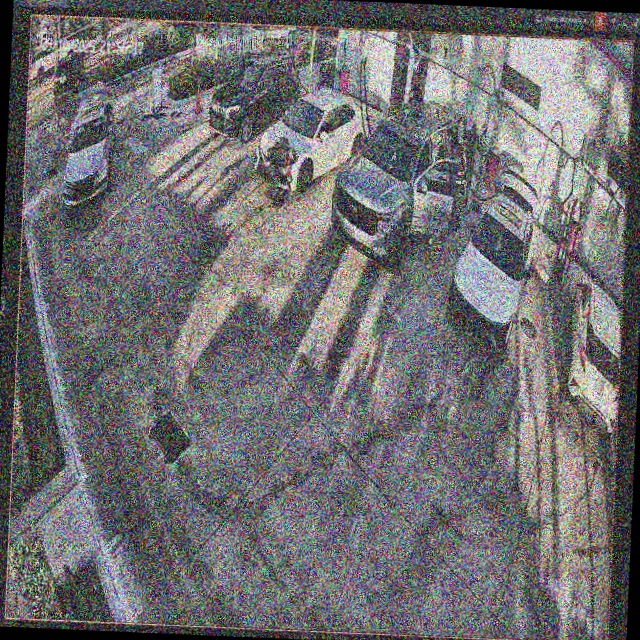Car: (326, 97, 461, 277), (442, 163, 540, 356), (254, 81, 373, 195)
